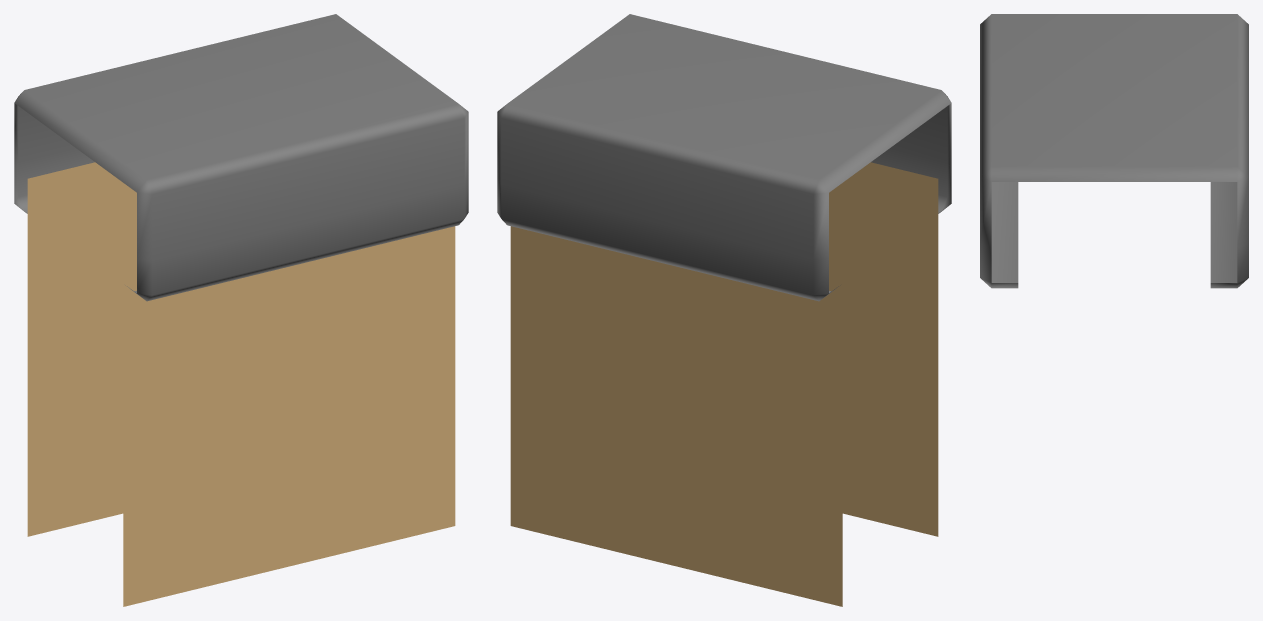
File: SM_WallA_2x2_LOD1.fbx
The picture shows the model from 3 angles, left to right: view 1: azimuth 30°, elevation 25°; view 2: azimuth 150°, elevation 25°; view 3: azimuth 270°, elevation 25°; orthographic projection.
Parts seen in each view (by area): view 1: SM_WallA_2x2_LOD1; view 2: SM_WallA_2x2_LOD1; view 3: SM_WallA_2x2_LOD1.
Part boxes in pixels (x1,y1,x2,y2): SM_WallA_2x2_LOD1: (14, 14, 468, 606); SM_WallA_2x2_LOD1: (497, 14, 951, 606); SM_WallA_2x2_LOD1: (980, 14, 1248, 288).
Size of the model in its own units: 2 by 2.5 by 1.4.
